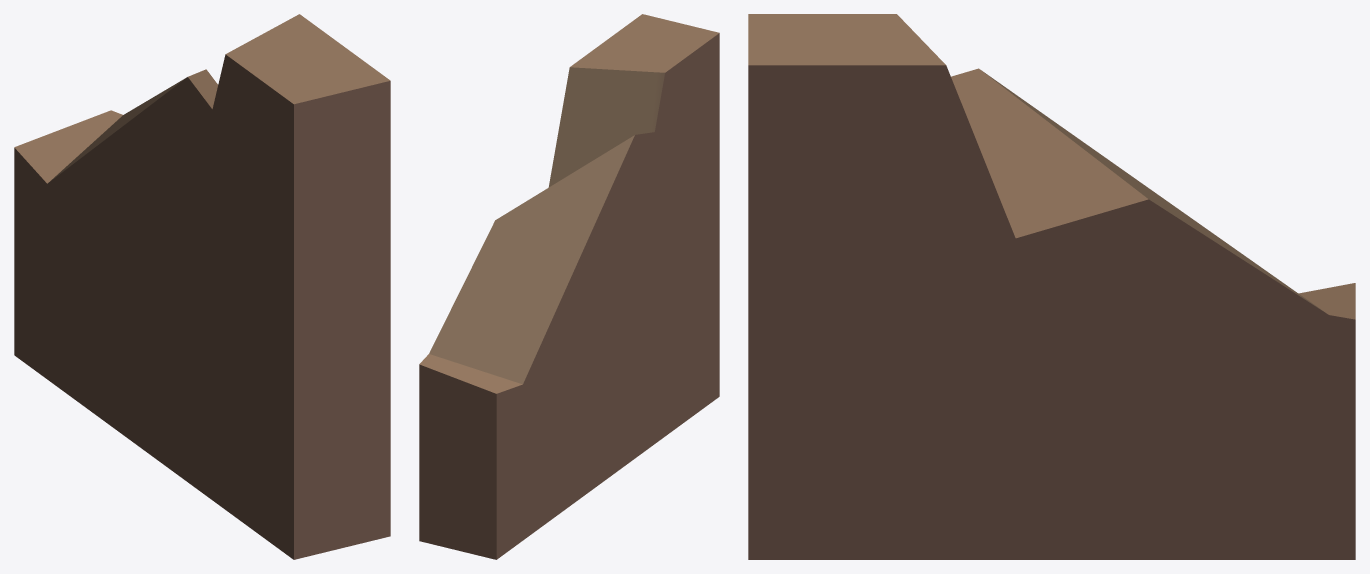
Rendered from factory_wall_break_2.fbx.
The picture shows the model from 3 angles, left to right: view 1: azimuth 30°, elevation 25°; view 2: azimuth 150°, elevation 25°; view 3: azimuth 270°, elevation 25°; orthographic projection. The views are drawn at different scales.
Visible parts, largest first — view 1: factory_wall_break_2; view 2: factory_wall_break_2; view 3: factory_wall_break_2.
Boxes of the visible parts, left/top/right/bottom form: factory_wall_break_2: left=14, top=14, right=390, bottom=559; factory_wall_break_2: left=419, top=14, right=719, bottom=559; factory_wall_break_2: left=748, top=14, right=1355, bottom=559.
Size of the model in its own units: 50 by 225 by 250.
